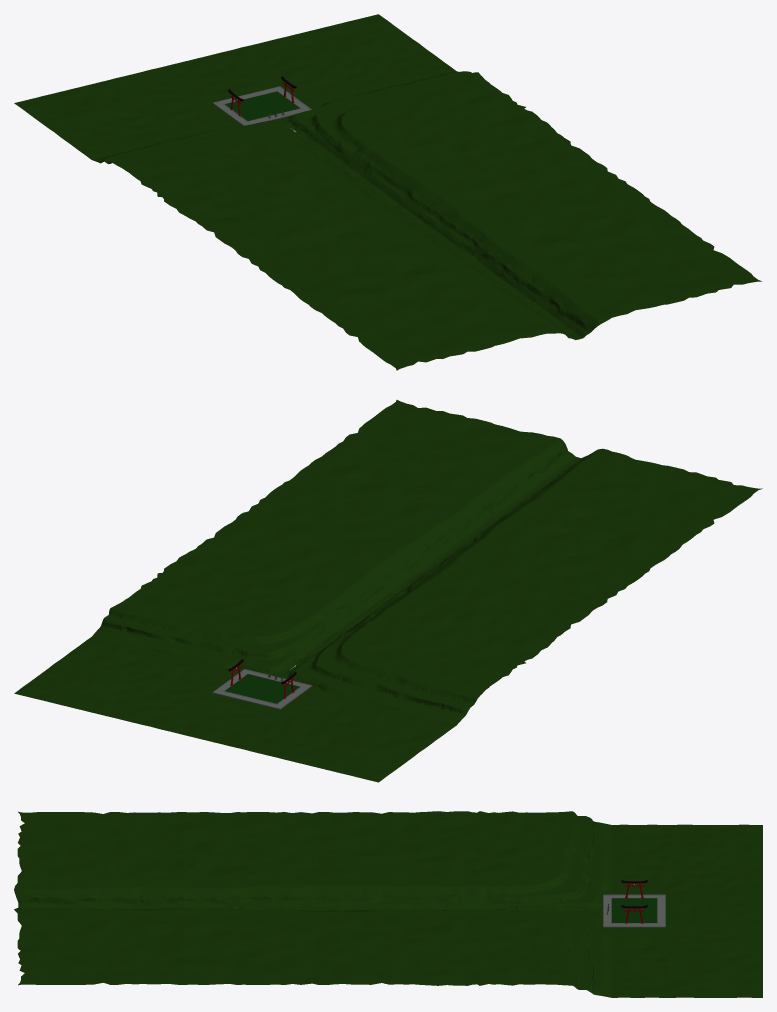
Rendered from JapanWhitebox 2.fbx.
The picture shows the model from 3 angles, top to bottom: view 1: azimuth 30°, elevation 25°; view 2: azimuth 150°, elevation 25°; view 3: azimuth 270°, elevation 25°; orthographic projection. The views are drawn at different scales.
Parts seen in each view (by area): view 1: Grid.002, Cube.011, Cube.009; view 2: Grid.002, Cube.011, Cube.009; view 3: Grid.002, Cube.011, Cube.009.
Boxes of the visible parts, x1,y1,x2,y2 form: Grid.002: (14,14,761,370); Cube.011: (225,91,299,120); Cube.009: (212,86,311,125); Grid.002: (14,400,762,782); Cube.011: (225,674,299,703); Cube.009: (212,669,312,709); Grid.002: (14,811,762,997); Cube.011: (611,898,657,922); Cube.009: (603,894,665,927).
Size of the model in its own units: 10111 by 525 by 18302.
